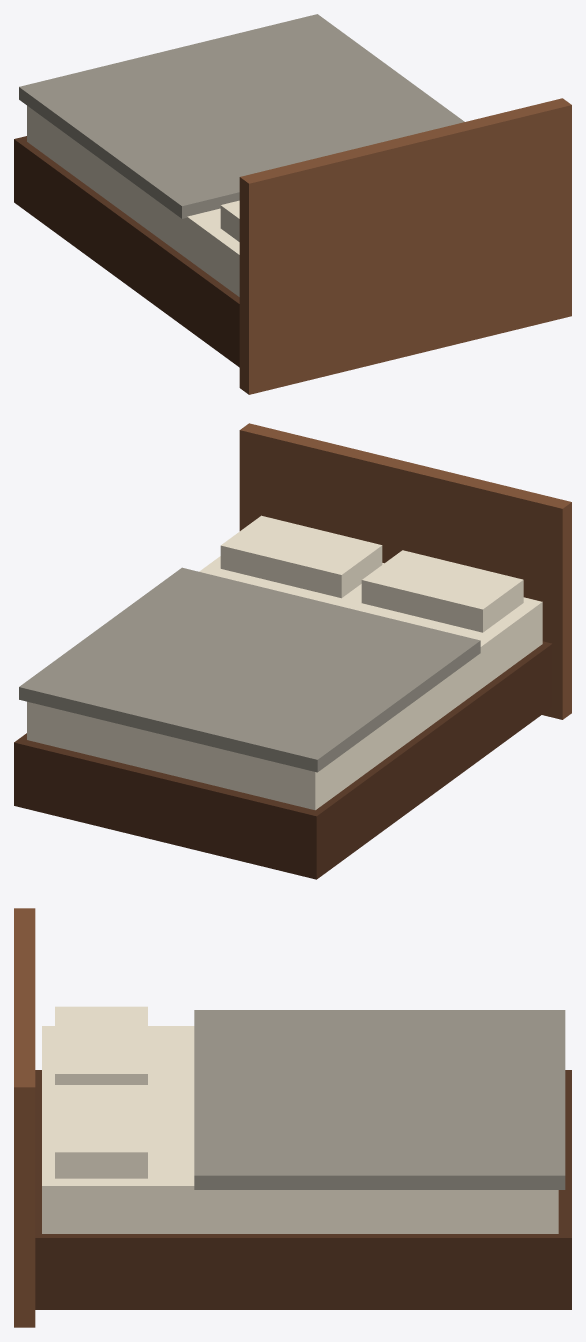
Rendered from parents_bed.glb.
3 renders of one model, top to bottom at view 1: azimuth 30°, elevation 25°; view 2: azimuth 150°, elevation 25°; view 3: azimuth 270°, elevation 25°, orthographic. The views are drawn at different scales.
Parts seen in each view (by area): view 1: Box6, Box3, Box1, Box2, Box5; view 2: Box3, Box1, Box6, Box2, Box5, Box4; view 3: Box3, Box1, Box2, Box6, Box4, Box5.
Part boxes in pixels (x1,y1,x2,y2): Box6: [239, 98, 571, 394]; Box3: [19, 14, 464, 218]; Box1: [14, 136, 239, 367]; Box2: [27, 105, 239, 296]; Box5: [220, 200, 239, 241]; Box3: [19, 567, 480, 772]; Box1: [14, 641, 552, 879]; Box6: [239, 423, 571, 719]; Box2: [27, 556, 542, 810]; Box5: [361, 550, 523, 632]; Box4: [220, 515, 382, 598]; Box3: [194, 1010, 565, 1189]; Box1: [35, 1070, 571, 1309]; Box2: [42, 1026, 558, 1233]; Box6: [14, 908, 35, 1327]; Box4: [55, 1085, 147, 1178]; Box5: [55, 1006, 147, 1084].
Bounding box in the file's own units: 1.6 × 1 × 2.11.
